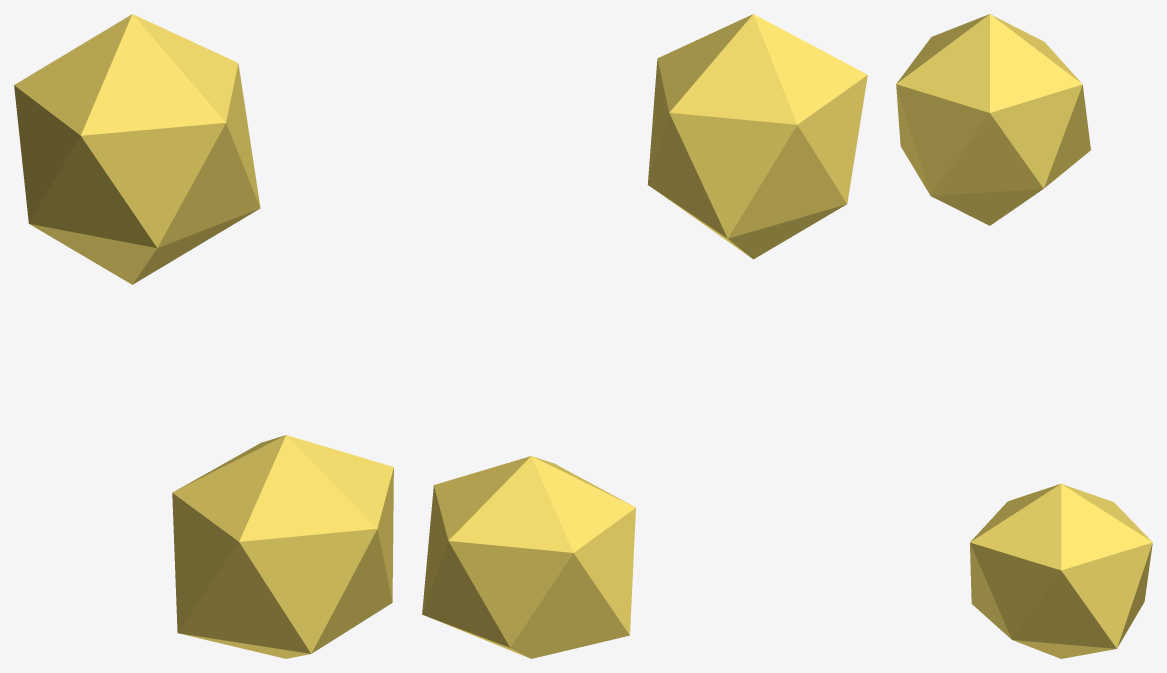
Rendered from kelp_vine_short_glow.fbx.
The picture shows the model from 3 angles, left to right: view 1: azimuth 30°, elevation 25°; view 2: azimuth 150°, elevation 25°; view 3: azimuth 270°, elevation 25°; orthographic projection. The views are drawn at different scales.
Parts seen in each view (by area): view 1: kelp_vine_short_glow; view 2: kelp_vine_short_glow; view 3: kelp_vine_short_glow.
Part boxes in pixels (x1=…): kelp_vine_short_glow: x1=14, y1=14, x2=393, y2=658; kelp_vine_short_glow: x1=422, y1=14, x2=867, y2=658; kelp_vine_short_glow: x1=896, y1=14, x2=1152, y2=658.
Size of the model in its own units: 309 by 522 by 214.
Materials: 1 (1 with a texture image).
